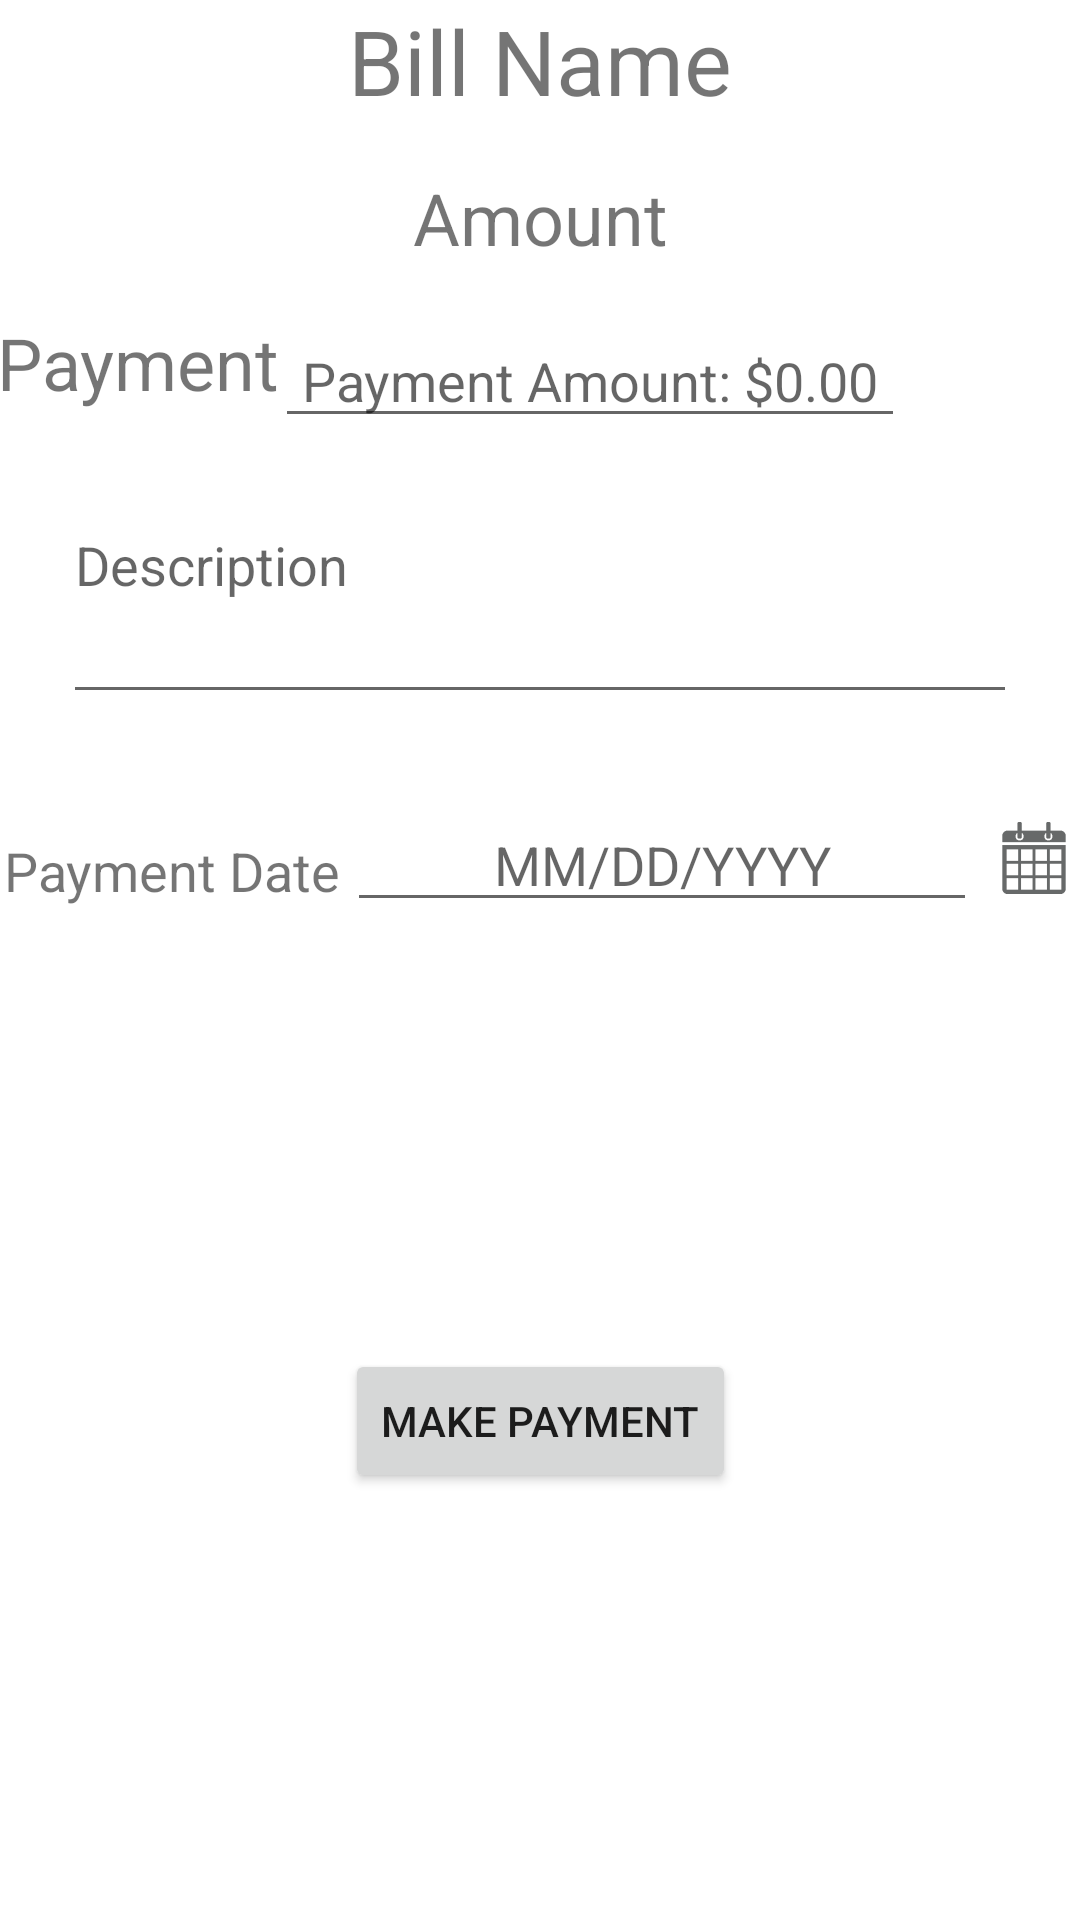

Screen size 1080*1920. Icon name, then its center in pixels as (x,y):
schedule: (1034,858)
